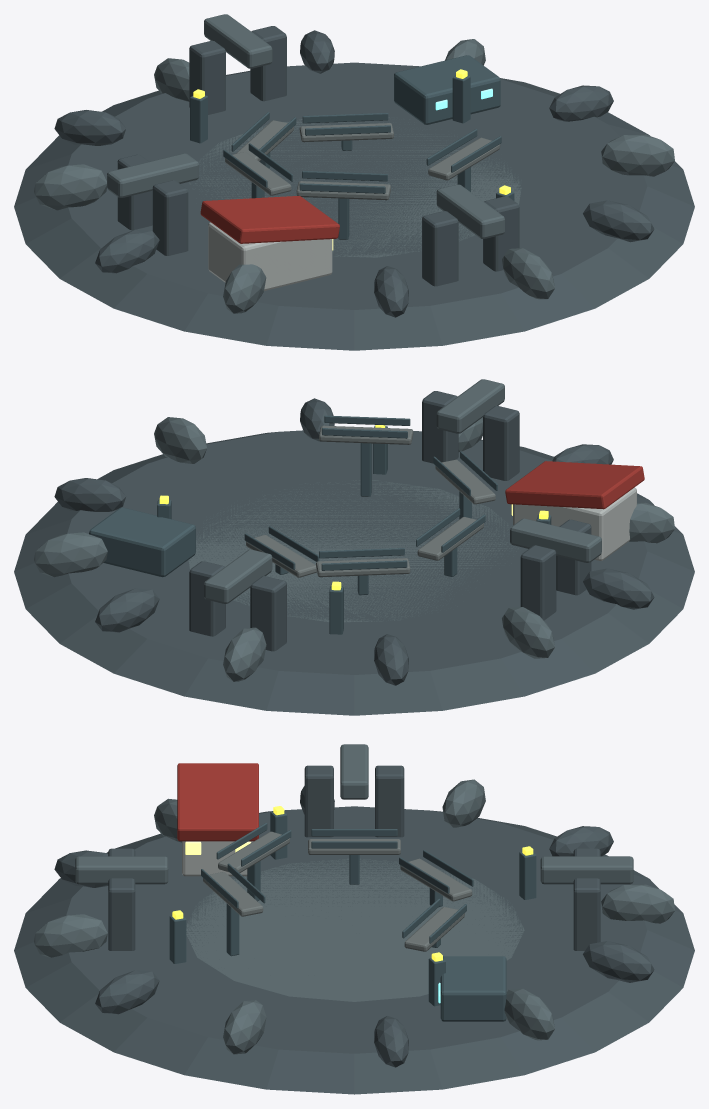
File: 00_lighthouse_island.glb
3 views of the same model, one above another, from view 1: azimuth 30°, elevation 25°; view 2: azimuth 150°, elevation 25°; view 3: azimuth 270°, elevation 25° (orthographic).
Visible parts, largest first — view 1: lighthouse_island_core, lighthouse_island_terrace, lighthouse_keeper_roof, lighthouse_keeper_house, lighthouse_generator_house, lighthouse_breakwater_05, lighthouse_rock_gate_south_-1, lighthouse_breakwater_11, lighthouse_rock_gate_west_+1, lighthouse_rock_gate_west_lintel, lighthouse_rock_gate_north_+1, lighthouse_rock_gate_south_lintel (+25 smaller); view 2: lighthouse_island_core, lighthouse_island_terrace, lighthouse_generator_house, lighthouse_keeper_roof, lighthouse_keeper_house, lighthouse_rock_gate_south_-1, lighthouse_breakwater_01, lighthouse_rock_gate_west_lintel, lighthouse_rock_gate_west_-1, lighthouse_rock_gate_north_+1, lighthouse_rock_gate_north_lintel, lighthouse_rock_gate_south_lintel (+25 smaller); view 3: lighthouse_island_core, lighthouse_island_terrace, lighthouse_keeper_roof, lighthouse_generator_house, lighthouse_rock_gate_north_lintel, lighthouse_rock_gate_south_lintel, lighthouse_breakwater_09, lighthouse_breakwater_03, lighthouse_breakwater_02, lighthouse_rock_gate_south_+1, lighthouse_rock_gate_west_-1, lighthouse_rock_gate_west_+1 (+22 smaller).
Boxes of the visible parts, x1=… form: lighthouse_island_core: x1=14, y1=62, x2=694, y2=350; lighthouse_island_terrace: x1=189, y1=117, x2=521, y2=257; lighthouse_keeper_roof: x1=200, y1=196, x2=339, y2=243; lighthouse_keeper_house: x1=208, y1=222, x2=332, y2=290; lighthouse_generator_house: x1=394, y1=55, x2=500, y2=124; lighthouse_breakwater_05: x1=34, y1=164, x2=106, y2=210; lighthouse_rock_gate_south_-1: x1=422, y1=211, x2=458, y2=286; lighthouse_breakwater_11: x1=601, y1=134, x2=674, y2=176; lighthouse_rock_gate_west_+1: x1=152, y1=180, x2=188, y2=255; lighthouse_rock_gate_west_lintel: x1=107, y1=153, x2=198, y2=197; lighthouse_rock_gate_north_+1: x1=189, y1=40, x2=225, y2=114; lighthouse_rock_gate_south_lintel: x1=436, y1=184, x2=504, y2=238; lighthouse_island_core: x1=14, y1=430, x2=694, y2=715; lighthouse_island_terrace: x1=188, y1=480, x2=518, y2=622; lighthouse_generator_house: x1=89, y1=507, x2=195, y2=577; lighthouse_keeper_roof: x1=505, y1=461, x2=644, y2=509; lighthouse_keeper_house: x1=513, y1=487, x2=636, y2=560; lighthouse_rock_gate_south_-1: x1=483, y1=405, x2=519, y2=480; lighthouse_breakwater_01: x1=34, y1=532, x2=107, y2=577; lighthouse_rock_gate_west_lintel: x1=510, y1=518, x2=601, y2=562; lighthouse_rock_gate_west_-1: x1=520, y1=545, x2=556, y2=620; lighthouse_rock_gate_north_+1: x1=250, y1=576, x2=286, y2=651; lighthouse_rock_gate_north_lintel: x1=204, y1=549, x2=272, y2=603; lighthouse_rock_gate_south_lintel: x1=436, y1=379, x2=504, y2=433; lighthouse_island_core: x1=14, y1=806, x2=694, y2=1094; lighthouse_island_terrace: x1=186, y1=858, x2=524, y2=1001; lighthouse_keeper_roof: x1=177, y1=763, x2=258, y2=841; lighthouse_generator_house: x1=440, y1=956, x2=506, y2=1021; lighthouse_rock_gate_north_lintel: x1=540, y1=856, x2=633, y2=884; lighthouse_rock_gate_south_lintel: x1=75, y1=856, x2=168, y2=884; lighthouse_breakwater_09: x1=34, y1=914, x2=107, y2=957; lighthouse_breakwater_03: x1=601, y1=884, x2=674, y2=923; lighthouse_breakwater_02: x1=583, y1=941, x2=654, y2=982; lighthouse_rock_gate_south_+1: x1=108, y1=878, x2=135, y2=950; lighthouse_rock_gate_west_-1: x1=375, y1=765, x2=404, y2=837; lighthouse_rock_gate_west_+1: x1=304, y1=765, x2=333, y2=837.
Bounding box in the file's own units: 600 × 89.5 × 600.
